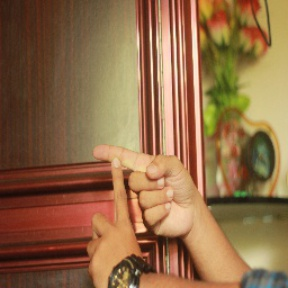T: (78, 141, 181, 262)
